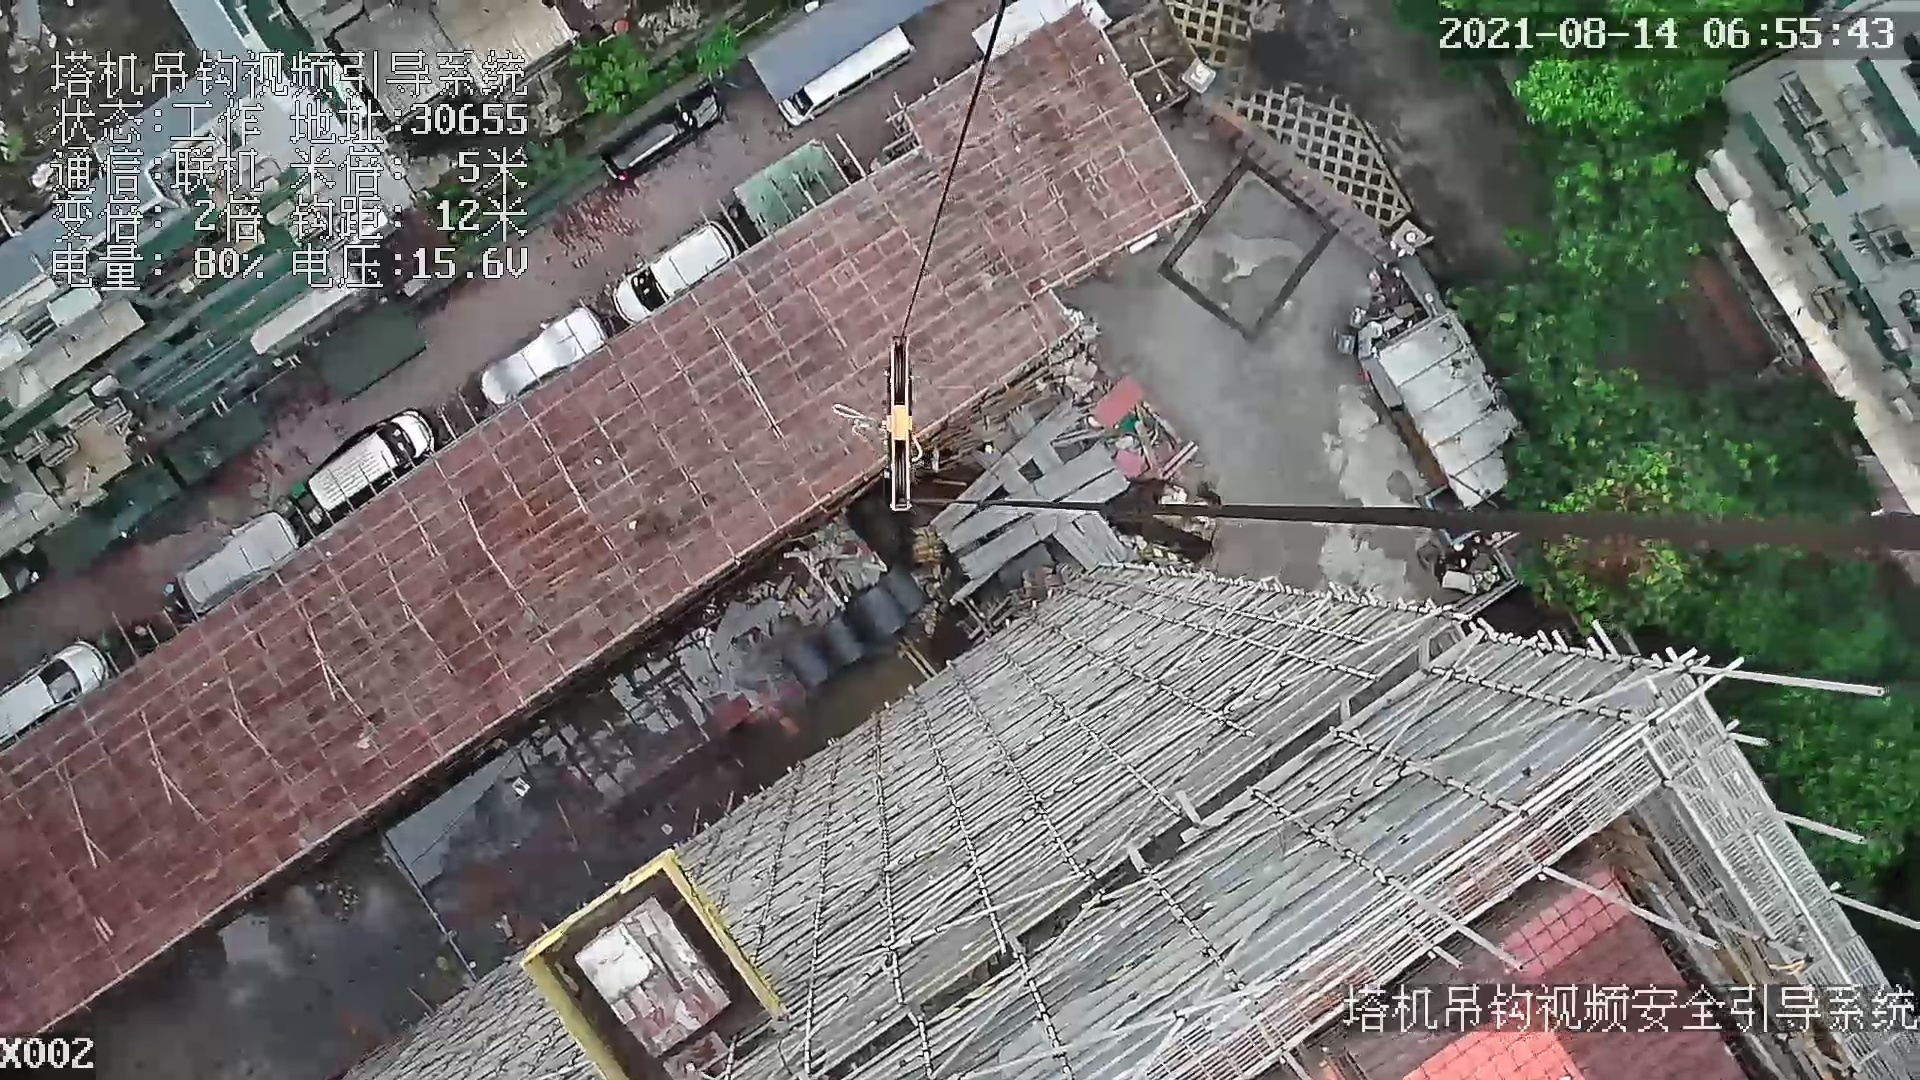board: (574, 895, 731, 1060)
hook: (878, 322, 928, 513)
rebar: (931, 401, 1081, 534), (957, 469, 1130, 580), (942, 443, 1116, 553), (1054, 522, 1102, 572), (1073, 514, 1125, 562)
